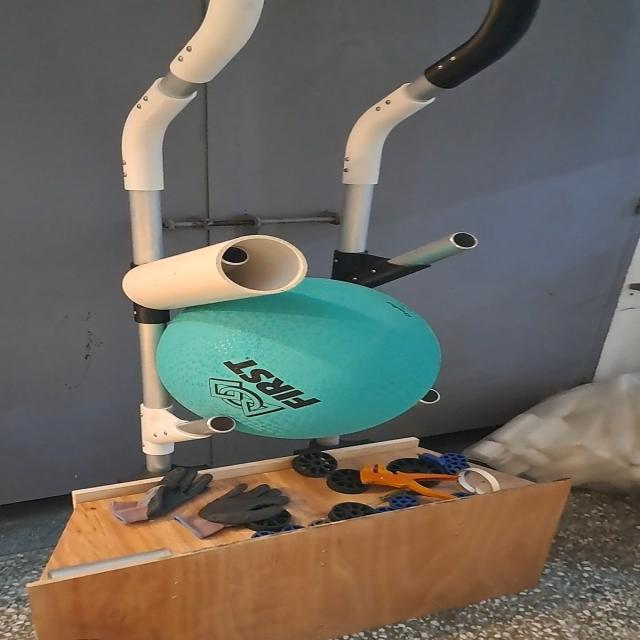ALGAE: (152, 273, 444, 440)
CORAL: (120, 233, 312, 312)
